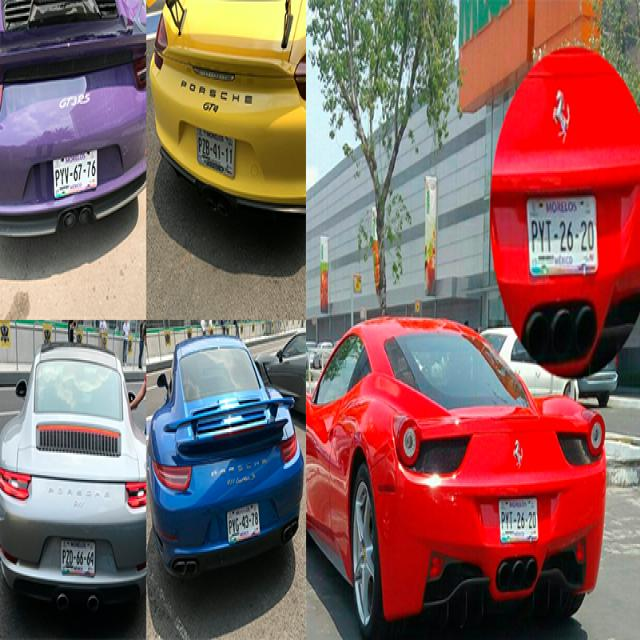placa: (528, 213, 598, 253), (196, 132, 238, 166), (51, 158, 101, 186), (227, 506, 265, 534), (498, 507, 540, 530), (59, 544, 98, 568)
